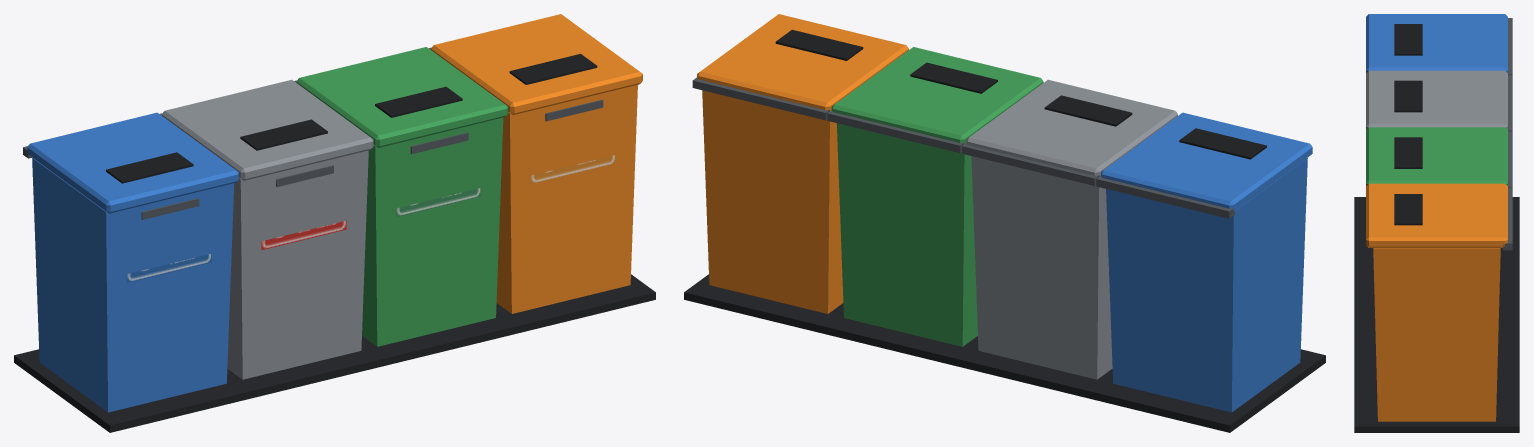
Rendered from SC_Util_Recycle_Bins.gltf.
3 renders of one model, left to right at view 1: azimuth 30°, elevation 25°; view 2: azimuth 150°, elevation 25°; view 3: azimuth 270°, elevation 25°, orthographic. The views are drawn at different scales.
Parts seen in each view (by area): view 1: SC_Util_Recycle_Bins; view 2: SC_Util_Recycle_Bins; view 3: SC_Util_Recycle_Bins.
Part boxes in pixels (x1,y1,x2,y2): SC_Util_Recycle_Bins: (14,14,655,432); SC_Util_Recycle_Bins: (684,14,1325,432); SC_Util_Recycle_Bins: (1354,14,1519,432).
Bounding box in the file's own units: 2.3 × 0.908 × 0.7.
2 materials, 2 textured.
